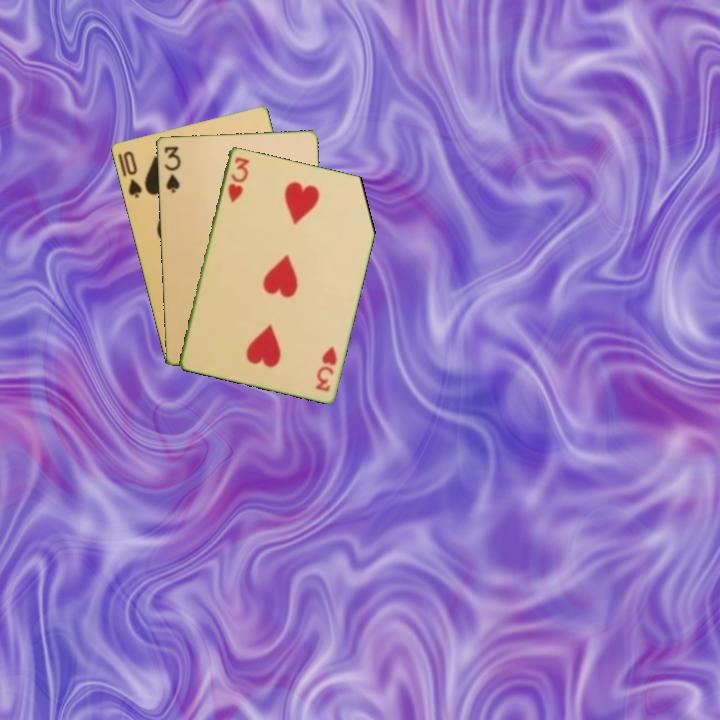10s: (119, 147, 144, 201)
3h: (224, 153, 252, 205), (312, 342, 340, 394)
3s: (160, 143, 183, 195)
